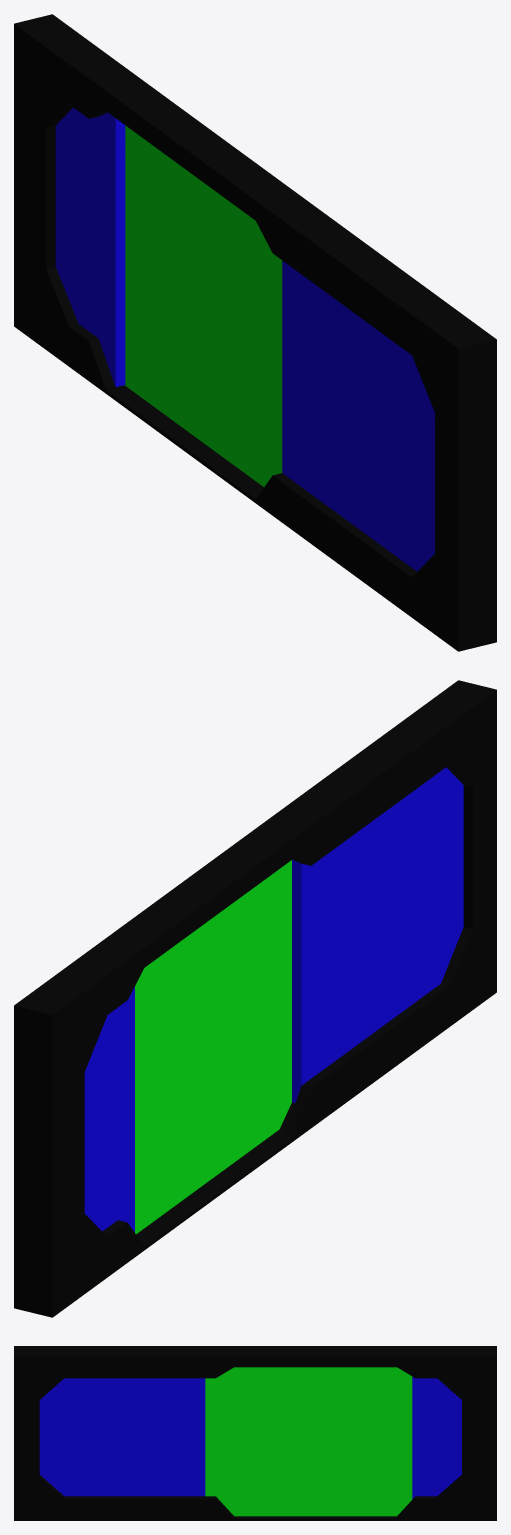
The model's file is SecondDoorAnimation.FBX.
3 views of the same model, one above another, from view 1: azimuth 30°, elevation 25°; view 2: azimuth 150°, elevation 25°; view 3: azimuth 270°, elevation 25° (orthographic). The views are drawn at different scales.
Visible parts, largest first — view 1: Door, Glass, MovingGlass; view 2: Door, Glass, MovingGlass; view 3: Door, MovingGlass, Glass.
Boxes of the visible parts, x1,y1,x2,y2 form: Door: (14,14,496,651); Glass: (55,107,434,571); MovingGlass: (125,125,282,486); Door: (14,680,496,1317); Glass: (84,767,463,1232); MovingGlass: (135,860,291,1234); Door: (14,1346,496,1520); MovingGlass: (205,1367,412,1516); Glass: (39,1376,461,1499).
Bounding box in the file's own units: 39.37 × 295 × 786.
